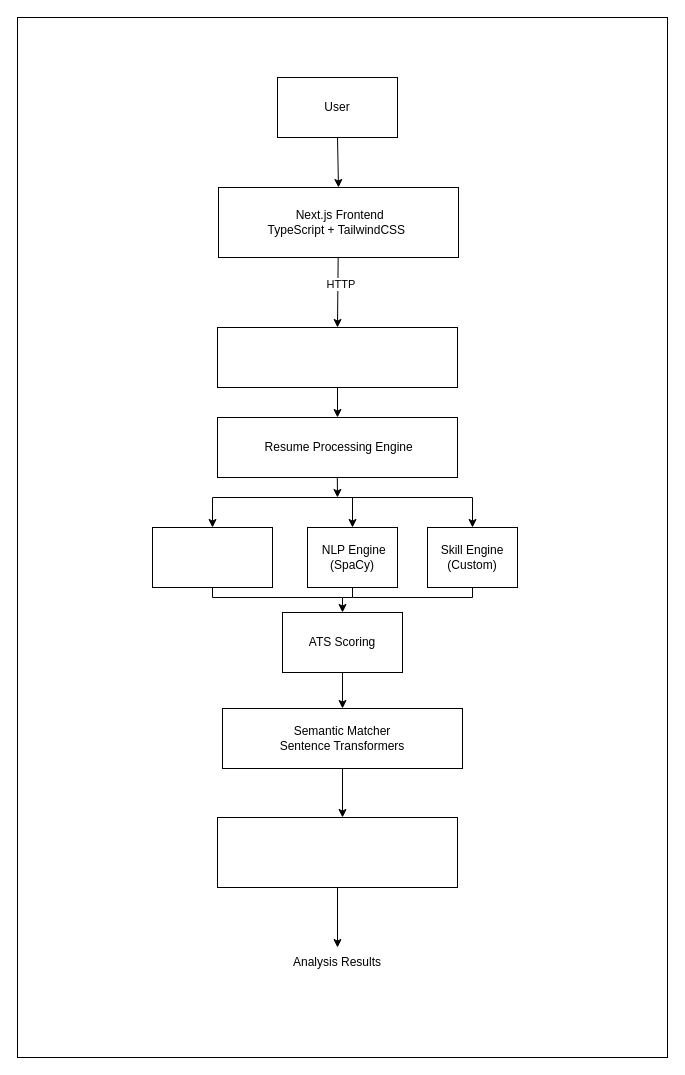
Image size: 685x1075. Some labels were removed from this diagram. Here are the shapes that lost their labels. From the top down, the centre of each, then its label:
the point at 337,357: FastAPI Backend
the point at 212,557: PDF Parser (PyMuPDF)
the point at 337,852: OLLAMA Local Models Mistral Phi3 Mini
